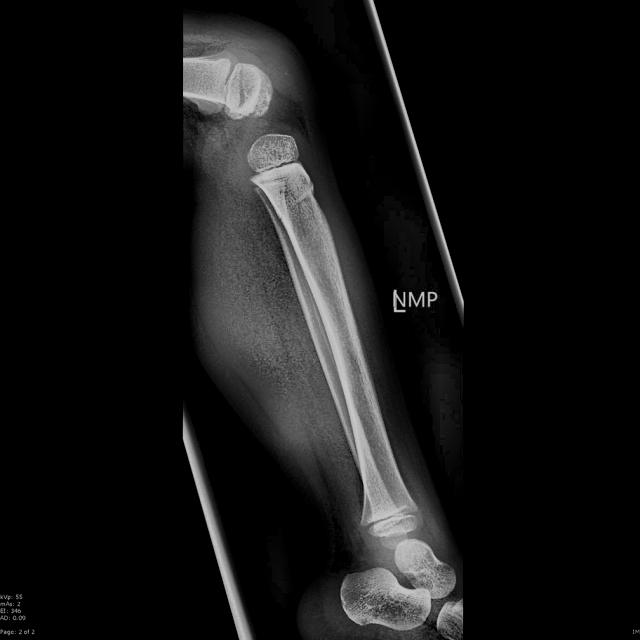line: (236, 64, 246, 109), (298, 187, 316, 201), (278, 210, 282, 222)
